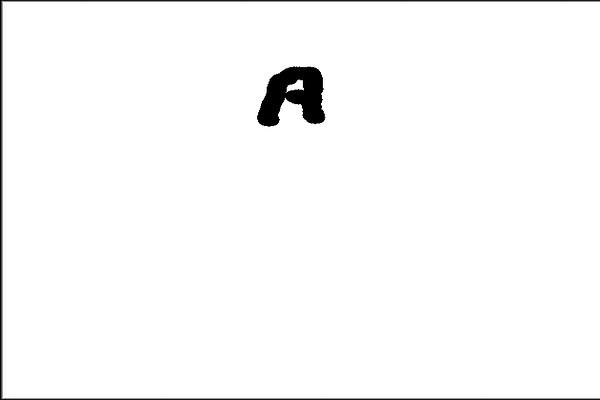A: (237, 54, 337, 134)
